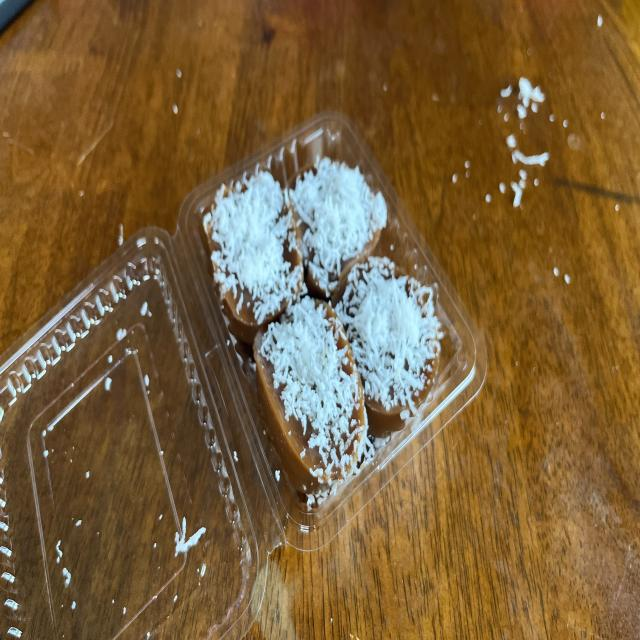Kuih lompang: (254, 298, 366, 496), (335, 256, 442, 436), (202, 169, 304, 344), (289, 158, 388, 298)
